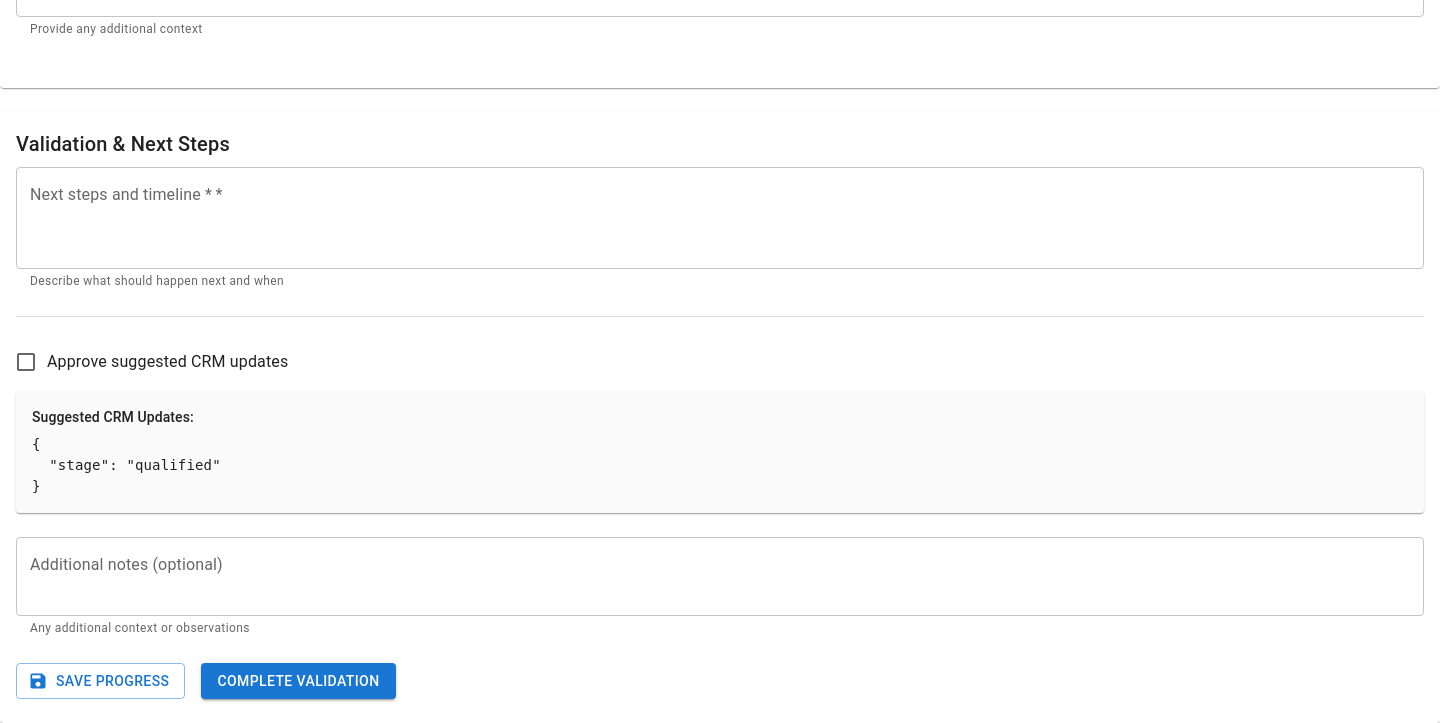
Test case: ValidationForm › Dynamic Validation Questions › shows validation errors for required questions
(page scrolled)
Click the button "Complete Validation": (298,681) [201,663,396,699]
(page scrolled)
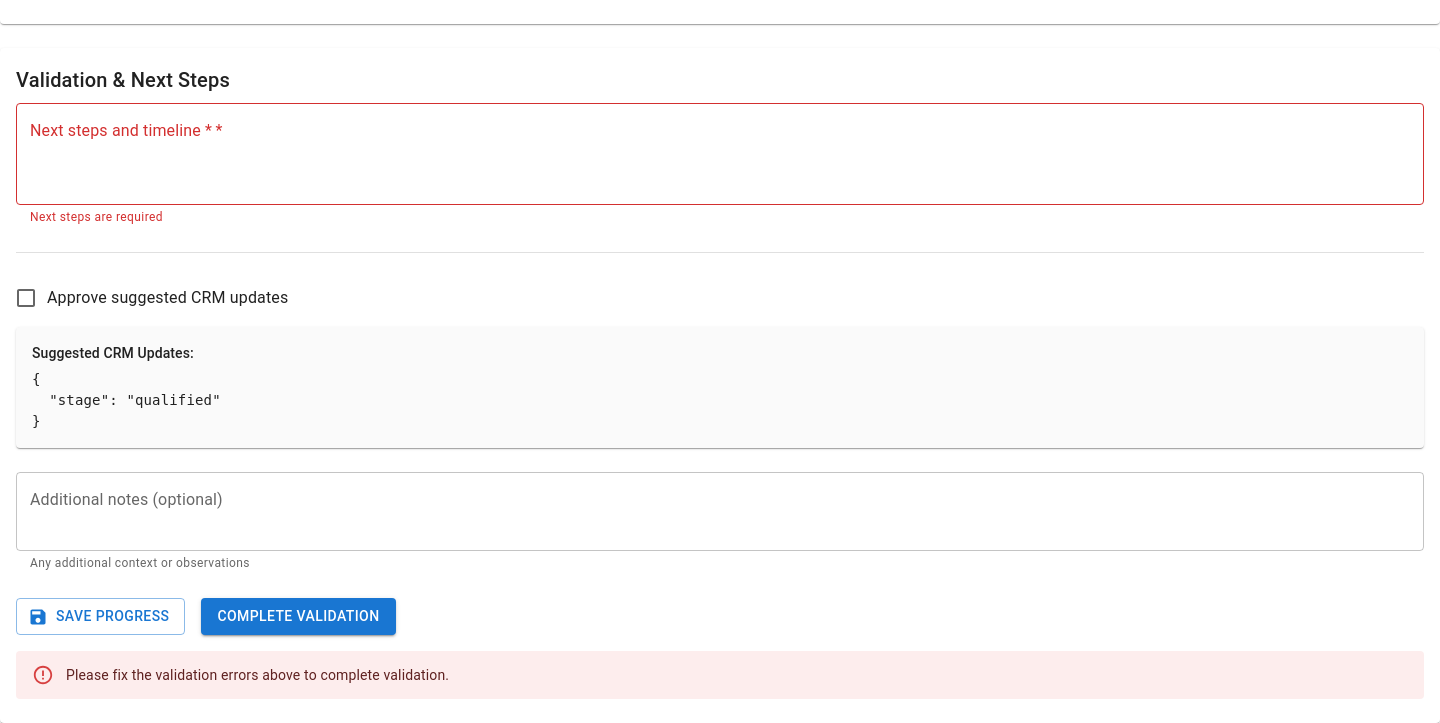
Result: the text "Please fix the validation errors above to complete validation." is shown at [66,667,449,683]
